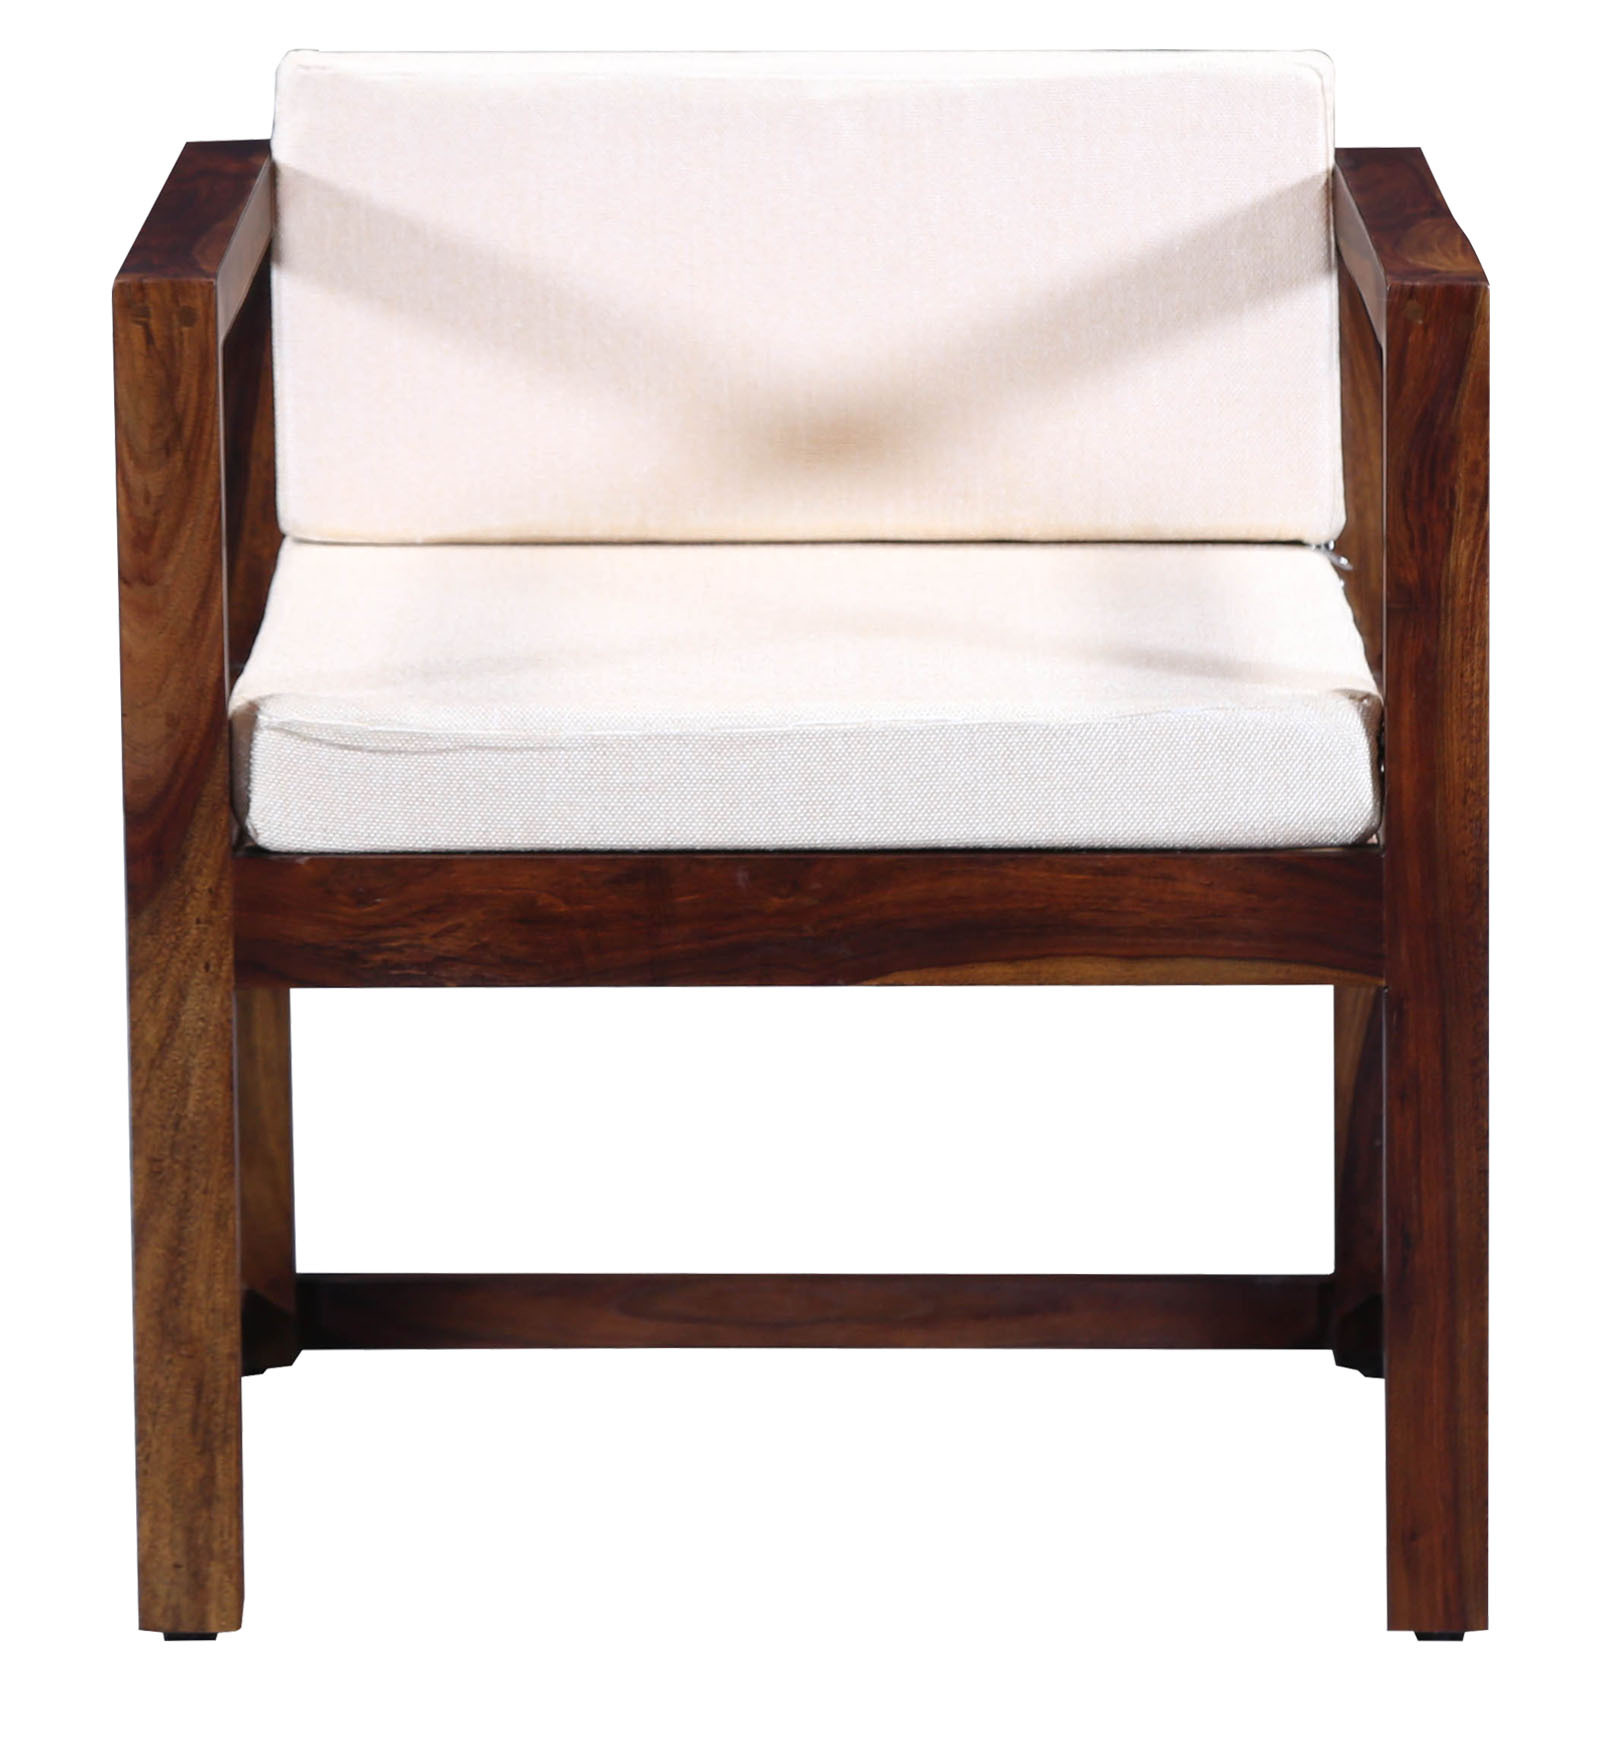Avian Arm Chair in Provincial Teak Finish by Woodsworth: (57, 35, 1530, 1674)
